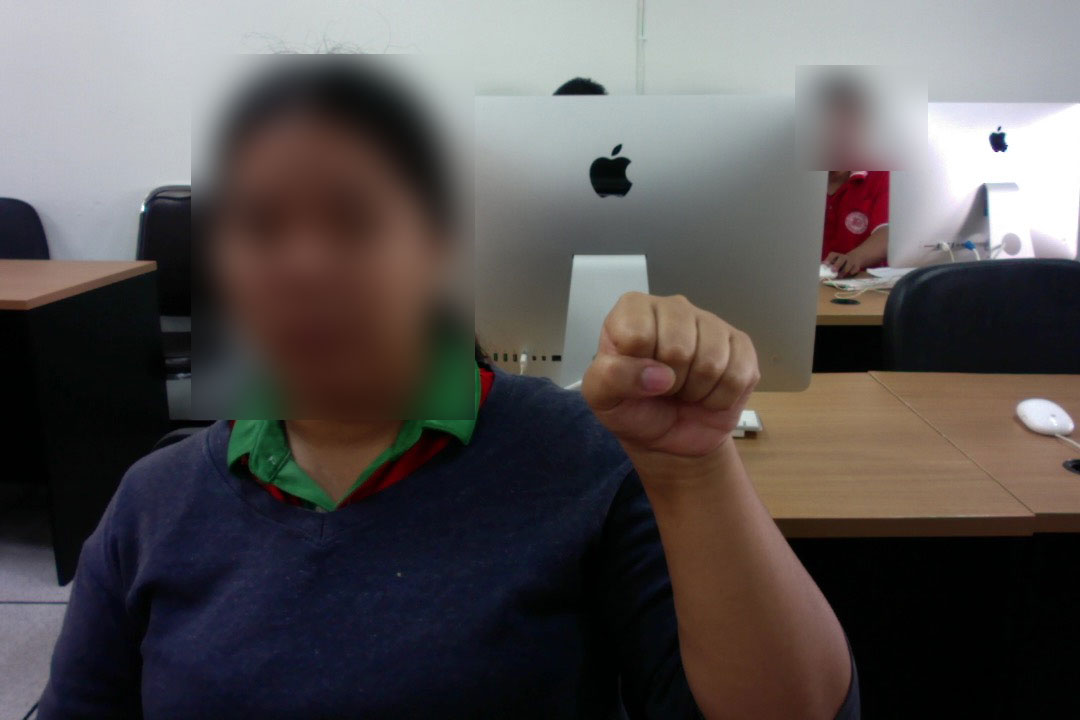sor: (574, 278, 770, 477)
